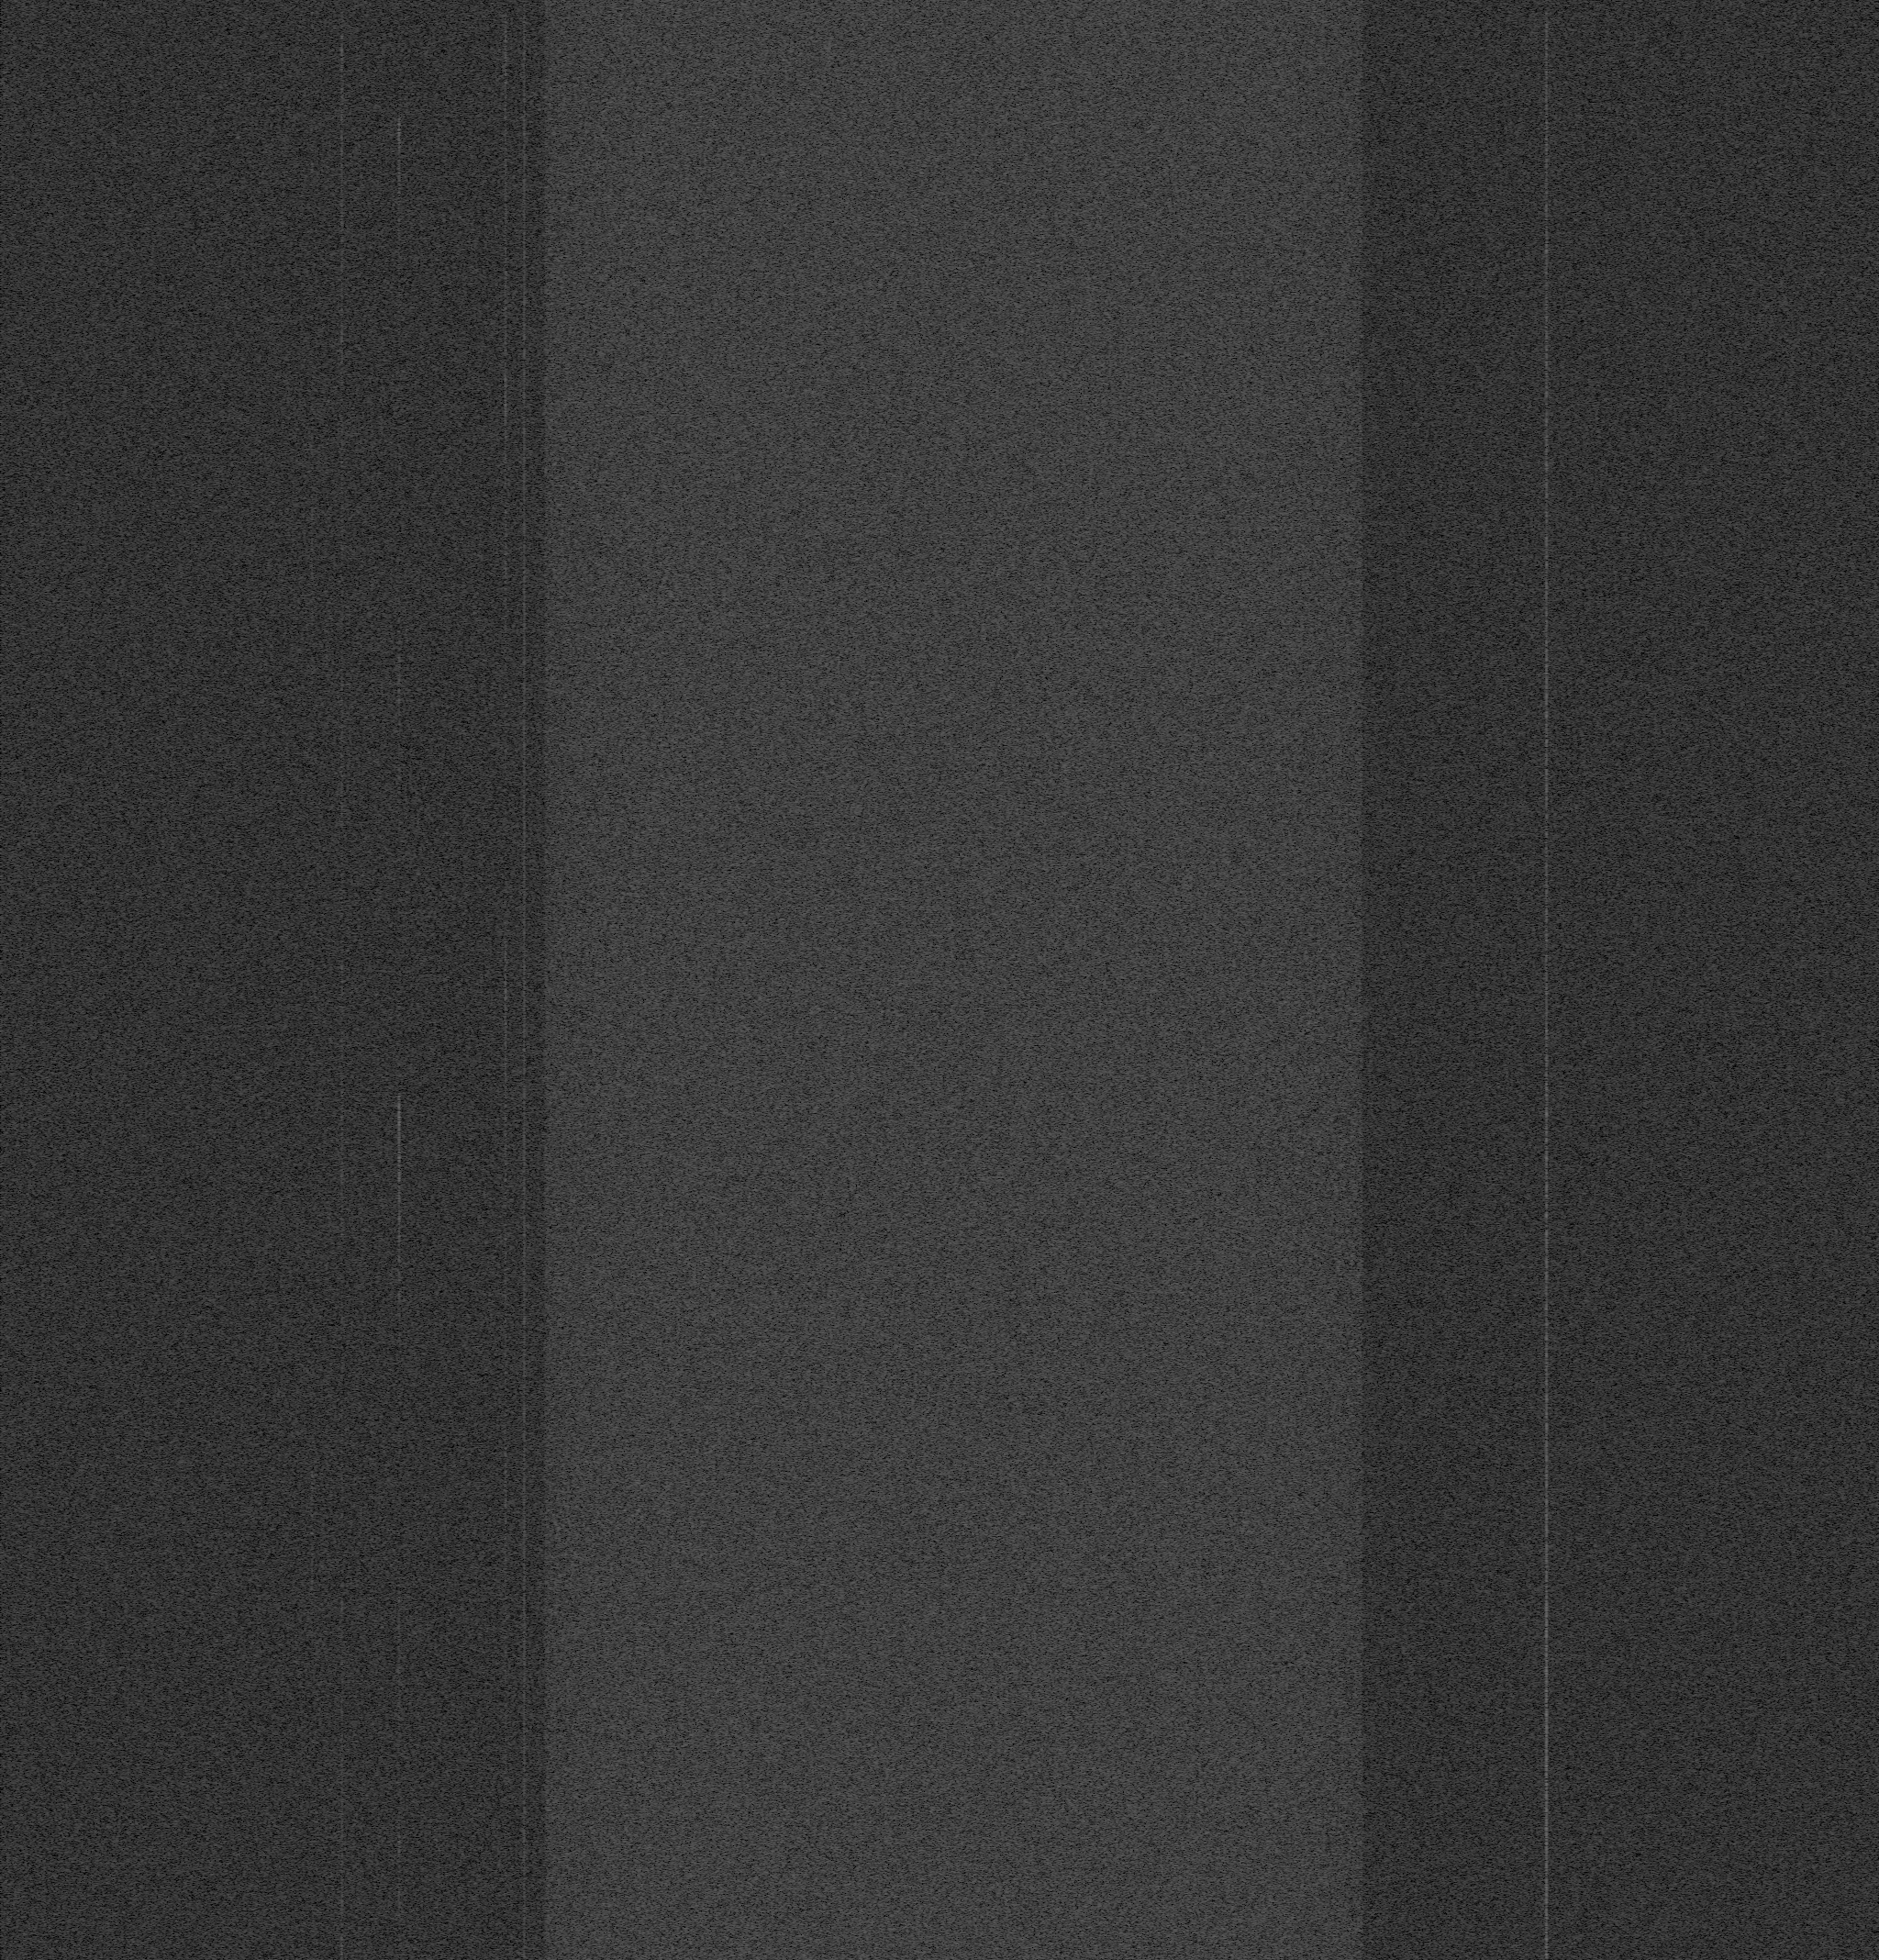wv_am: (521, 366, 527, 1958), (521, 2, 527, 362)
wv_dvbt_8kfft: (528, 0, 1379, 1960)
wv_lsb: (1545, 221, 1548, 901), (1545, 1437, 1548, 1958), (1545, 903, 1548, 1228), (502, 964, 509, 1122), (397, 651, 402, 840), (1545, 1228, 1548, 1437), (502, 333, 509, 427), (502, 25, 509, 116), (397, 112, 402, 229), (397, 1169, 402, 1267), (504, 579, 507, 717), (504, 450, 507, 579), (397, 1090, 402, 1167), (1545, 110, 1548, 221), (504, 1446, 507, 1547), (397, 1887, 402, 1951), (397, 231, 401, 322), (504, 156, 507, 235), (1545, 9, 1548, 82), (504, 1685, 507, 1754), (504, 264, 507, 333), (504, 1286, 507, 1347), (504, 1228, 507, 1286), (397, 1269, 401, 1327), (504, 1572, 507, 1628), (397, 597, 401, 648), (504, 1123, 507, 1167), (397, 1596, 402, 1624), (504, 936, 509, 963), (397, 840, 401, 875), (397, 1631, 401, 1664), (504, 122, 507, 154), (397, 445, 401, 476), (504, 786, 507, 816), (504, 744, 507, 774), (504, 235, 507, 263), (397, 1822, 401, 1850), (397, 1670, 401, 1698), (1545, 84, 1548, 108), (504, 1190, 507, 1213), (504, 1384, 507, 1405), (504, 1167, 507, 1188), (397, 1405, 401, 1426), (397, 1349, 401, 1370), (397, 1015, 401, 1036), (504, 1839, 507, 1858), (504, 429, 507, 448), (397, 1726, 401, 1745), (397, 1328, 401, 1347), (397, 354, 401, 373), (504, 1552, 507, 1570), (397, 1698, 401, 1715), (397, 336, 401, 354), (504, 1783, 507, 1799), (504, 882, 507, 898), (504, 844, 507, 859), (504, 817, 507, 833), (504, 717, 507, 733), (397, 1428, 401, 1444), (397, 1390, 401, 1405), (397, 1372, 401, 1388), (504, 1769, 507, 1783), (504, 1663, 507, 1676), (504, 1643, 507, 1657), (504, 1629, 507, 1643), (504, 1370, 507, 1384), (504, 1355, 507, 1368), (504, 865, 507, 879), (397, 1858, 401, 1873), (397, 1804, 401, 1818), (397, 1780, 401, 1794), (397, 1580, 401, 1594), (397, 936, 401, 950), (397, 394, 401, 408), (504, 1939, 507, 1951), (504, 1827, 507, 1839), (504, 1423, 507, 1435), (397, 1873, 401, 1885), (397, 374, 401, 387), (397, 322, 401, 334), (504, 1869, 507, 1880), (504, 1409, 507, 1419), (504, 1216, 507, 1227), (504, 915, 507, 926), (504, 903, 507, 913), (504, 12, 507, 23), (397, 1767, 401, 1778), (397, 1475, 401, 1486), (397, 898, 401, 908), (504, 1899, 507, 1907), (397, 1850, 401, 1858), (397, 1717, 401, 1726), (397, 1570, 401, 1579), (397, 1533, 401, 1542), (397, 1453, 401, 1461), (397, 919, 401, 928), (504, 1927, 507, 1934), (504, 1881, 507, 1888), (504, 1810, 507, 1817), (504, 1755, 507, 1762), (504, 1437, 507, 1444), (504, 735, 507, 742), (397, 1796, 401, 1802), (397, 1761, 401, 1767), (397, 1069, 401, 1076), (397, 1001, 401, 1008), (397, 928, 401, 935), (504, 1858, 507, 1864), (504, 1802, 507, 1808), (504, 1680, 507, 1685), (504, 926, 507, 931), (504, 835, 507, 840), (504, 117, 507, 122), (397, 1664, 401, 1670), (397, 1512, 401, 1517), (397, 1507, 401, 1512), (397, 1500, 401, 1505), (397, 1494, 401, 1500), (397, 1082, 401, 1087), (397, 991, 401, 996), (397, 882, 401, 887), (397, 875, 401, 880), (397, 567, 401, 572), (397, 558, 401, 563), (397, 492, 401, 497), (397, 431, 401, 436), (397, 408, 401, 413), (397, 387, 401, 392), (504, 1909, 507, 1913), (504, 1865, 507, 1869), (504, 1657, 507, 1661), (504, 1349, 507, 1353), (504, 1213, 507, 1216), (504, 931, 507, 935), (397, 1955, 401, 1958), (397, 1624, 401, 1628), (397, 1566, 401, 1570), (397, 1528, 401, 1531), (397, 1488, 401, 1491), (397, 1461, 401, 1465), (399, 1039, 401, 1046), (399, 955, 401, 963), (397, 910, 401, 913), (397, 893, 401, 896), (397, 483, 401, 487), (397, 107, 401, 110), (397, 87, 401, 91), (397, 68, 401, 72), (399, 1060, 401, 1066), (504, 899, 507, 901), (504, 779, 507, 780), (504, 775, 507, 777), (397, 535, 401, 537), (399, 79, 401, 82), (399, 1010, 401, 1011)
wv_usb: (339, 1745, 345, 1930), (339, 236, 345, 413), (339, 1643, 345, 1726), (339, 128, 345, 203), (339, 9, 345, 84), (339, 770, 345, 842), (310, 59, 313, 159), (339, 1076, 345, 1132), (339, 1022, 345, 1074), (339, 1592, 345, 1643), (310, 523, 313, 597), (339, 1293, 345, 1339), (310, 1573, 315, 1615), (339, 86, 345, 126), (310, 598, 313, 656), (341, 1397, 345, 1454), (339, 514, 345, 553), (339, 1134, 345, 1171), (310, 1470, 315, 1501), (339, 205, 345, 235), (310, 658, 313, 702), (310, 422, 313, 465), (339, 957, 345, 985), (339, 558, 345, 586), (339, 483, 345, 511), (310, 1514, 315, 1542), (341, 893, 345, 933), (339, 1932, 345, 1958), (339, 1244, 345, 1271), (339, 1201, 345, 1227), (339, 448, 345, 474), (339, 730, 345, 753), (310, 387, 313, 417), (339, 688, 345, 707), (310, 493, 313, 521), (341, 648, 345, 675), (341, 861, 345, 887), (339, 844, 345, 861), (339, 1173, 345, 1188), (310, 161, 315, 175), (341, 1472, 345, 1491), (339, 1230, 345, 1243), (341, 1512, 345, 1529), (310, 371, 313, 387), (310, 9, 315, 19), (341, 1727, 345, 1743), (339, 632, 345, 642), (310, 1554, 315, 1565), (341, 1456, 345, 1470), (341, 429, 345, 443), (341, 415, 345, 429), (310, 1626, 313, 1640), (339, 753, 345, 761), (341, 1496, 345, 1509), (341, 1272, 345, 1284), (341, 709, 345, 721), (310, 481, 313, 492), (310, 467, 313, 478), (310, 247, 313, 257), (310, 49, 313, 59), (310, 35, 313, 46), (310, 21, 313, 31), (339, 763, 345, 770), (339, 723, 345, 730), (341, 621, 345, 632), (341, 600, 345, 611), (310, 1566, 315, 1573), (310, 326, 313, 334), (310, 276, 313, 285), (310, 206, 313, 215), (341, 1386, 345, 1395), (341, 1342, 345, 1351), (341, 1005, 345, 1013), (341, 677, 345, 686), (339, 1015, 345, 1020), (310, 740, 313, 747), (310, 725, 313, 731), (310, 711, 313, 717), (310, 341, 313, 348), (310, 317, 313, 324), (310, 297, 313, 304), (310, 191, 313, 198), (341, 1374, 345, 1381), (341, 1284, 345, 1292), (341, 987, 345, 994), (341, 593, 345, 600), (341, 586, 345, 593), (310, 1619, 313, 1626), (310, 756, 313, 761), (310, 703, 313, 709), (310, 364, 313, 369), (310, 355, 313, 360), (310, 292, 313, 297), (310, 285, 313, 290), (310, 229, 313, 235), (341, 1360, 345, 1365), (341, 1351, 345, 1356), (341, 1190, 345, 1195), (341, 996, 345, 1001), (341, 948, 345, 954), (341, 614, 345, 620), (310, 1507, 313, 1512), (310, 478, 313, 481), (310, 418, 313, 422), (310, 313, 313, 317), (310, 257, 313, 261), (341, 1370, 345, 1374), (341, 1197, 345, 1201), (341, 935, 345, 938), (341, 644, 345, 648), (341, 555, 345, 558), (341, 511, 345, 514), (341, 476, 345, 480), (341, 445, 345, 448), (311, 770, 313, 777), (341, 1566, 343, 1572), (341, 1561, 343, 1566), (341, 1556, 343, 1561), (341, 1544, 343, 1549), (341, 943, 343, 948), (341, 1582, 343, 1587), (311, 1642, 313, 1647), (311, 802, 313, 807), (311, 788, 313, 793), (311, 717, 313, 721), (311, 266, 313, 269), (311, 182, 313, 186), (341, 1537, 343, 1540), (341, 1493, 345, 1494), (341, 1383, 345, 1384), (341, 889, 345, 891), (311, 1648, 313, 1652), (311, 1549, 313, 1552), (310, 1503, 313, 1505), (341, 1552, 343, 1554), (311, 217, 313, 219), (341, 1589, 343, 1591), (341, 1579, 343, 1580), (341, 1573, 343, 1575), (311, 870, 313, 871)
